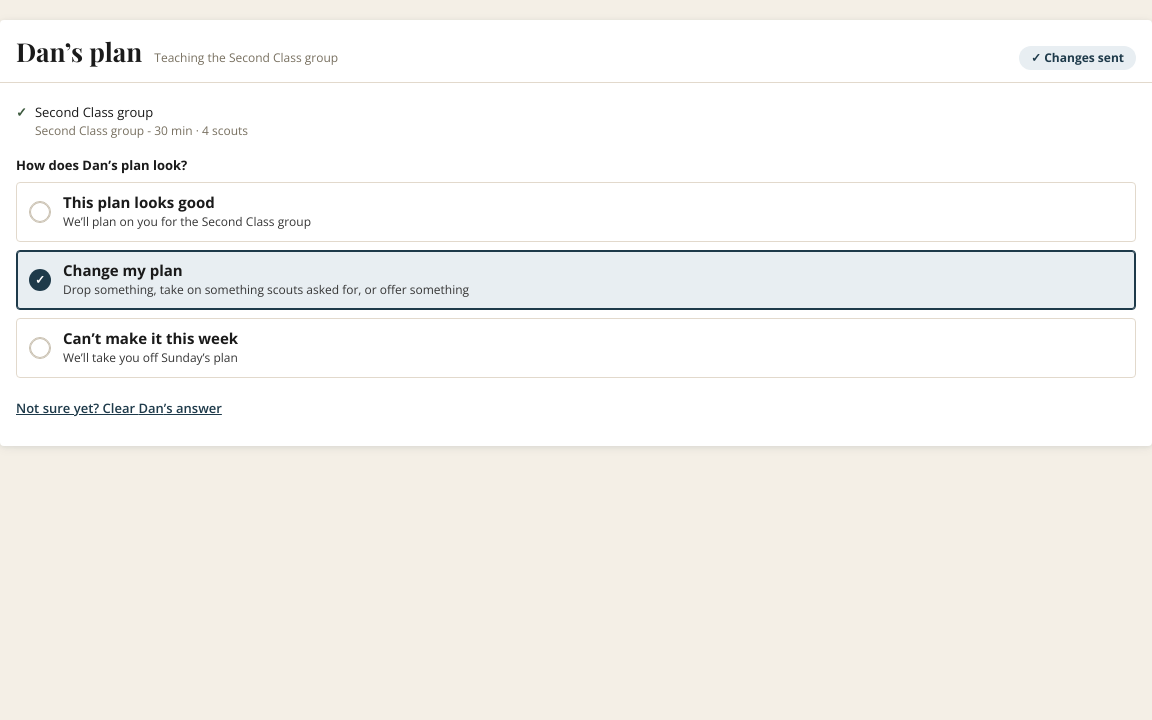
Test case: Can’t make it note › Teacher_CantMakeIt_OpensTheNote
Click the radio button labelled "Can’t make it this week We’ll take you off Sunday’s plan". click: (151, 338)
box: 16,318 -> 1136,378
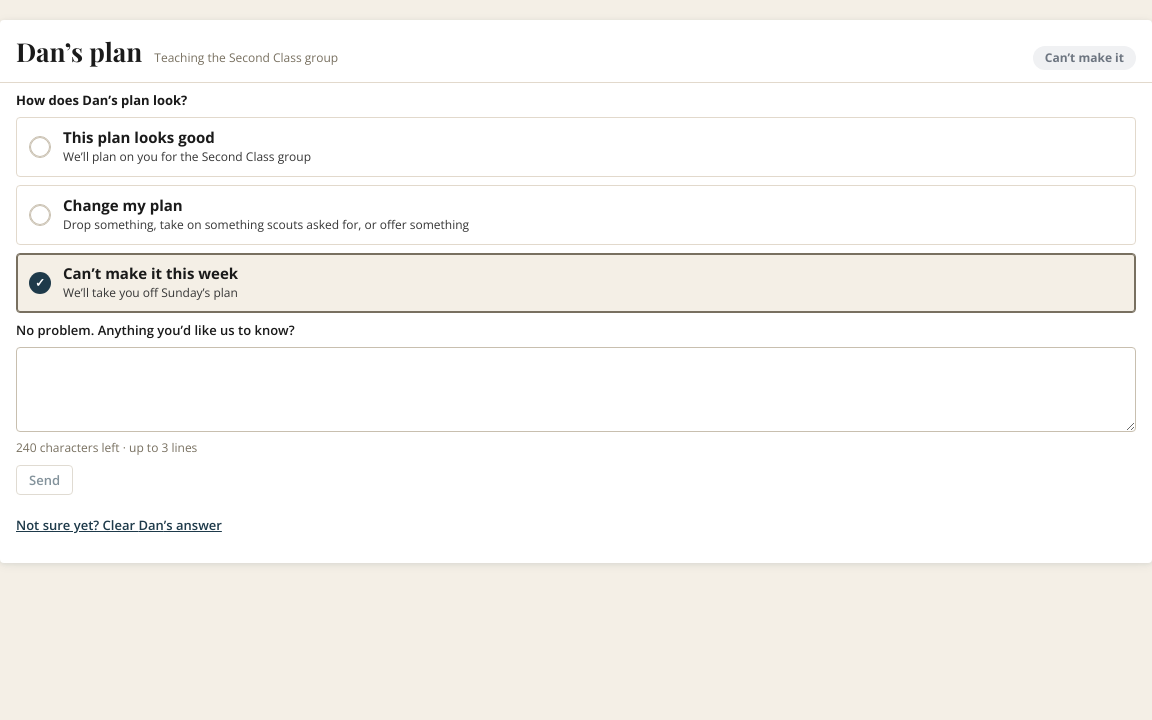
Now the text box labelled "No problem. Anything you’d like us to know?" is shown, box 16,347 -> 1136,432
